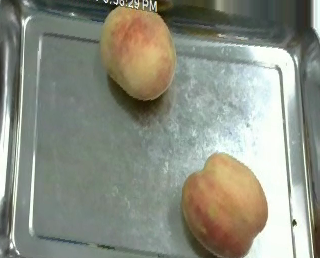Peach: (181, 150, 268, 257), (100, 2, 175, 100)
